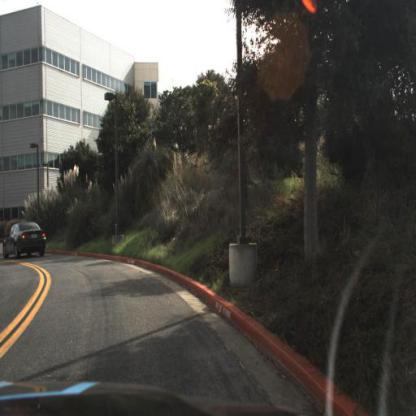car: (2, 219, 50, 260)
